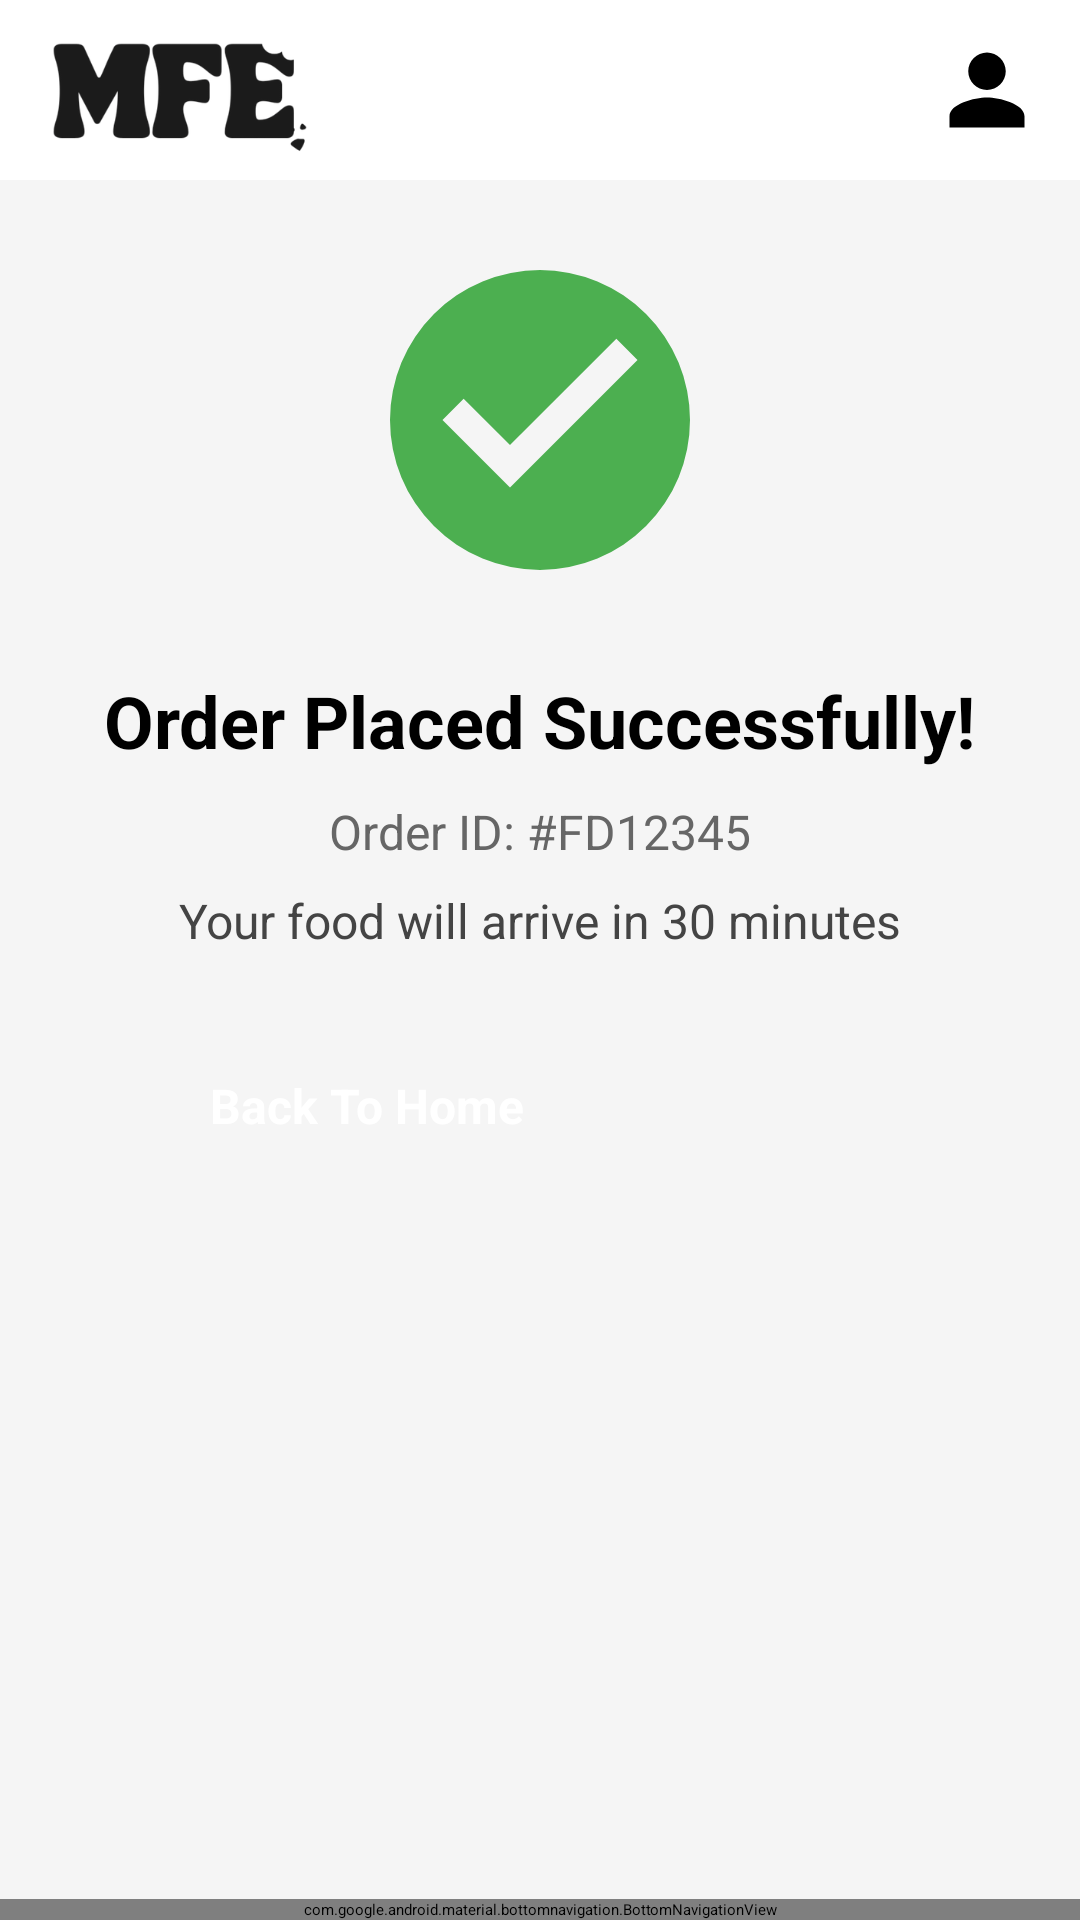

Point at icon controls on the screen. Image size 1080*1920, points as point (x, y).
profile: point (987, 90)
